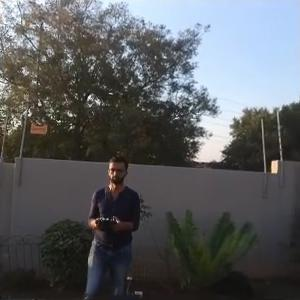follow: (80, 148, 145, 298)
